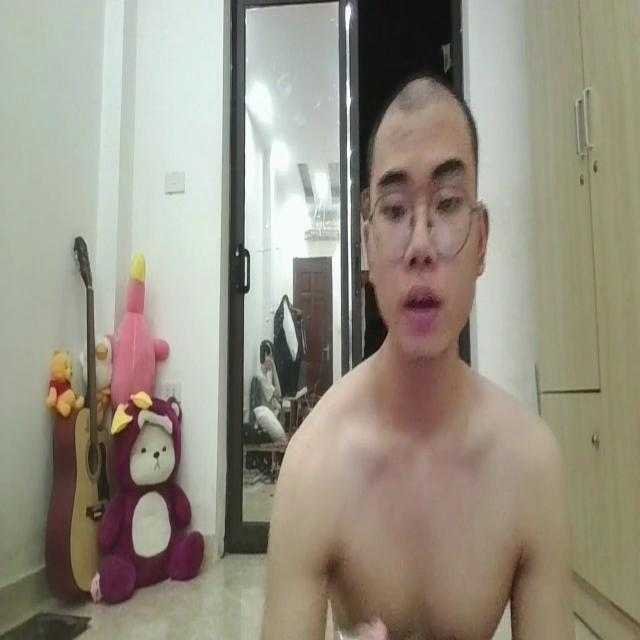student: (260, 43, 591, 640)
